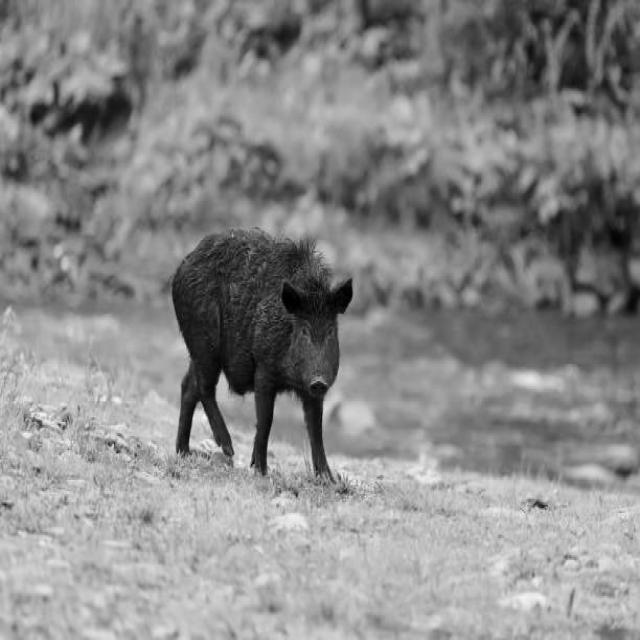boar: (170, 227, 350, 478)
